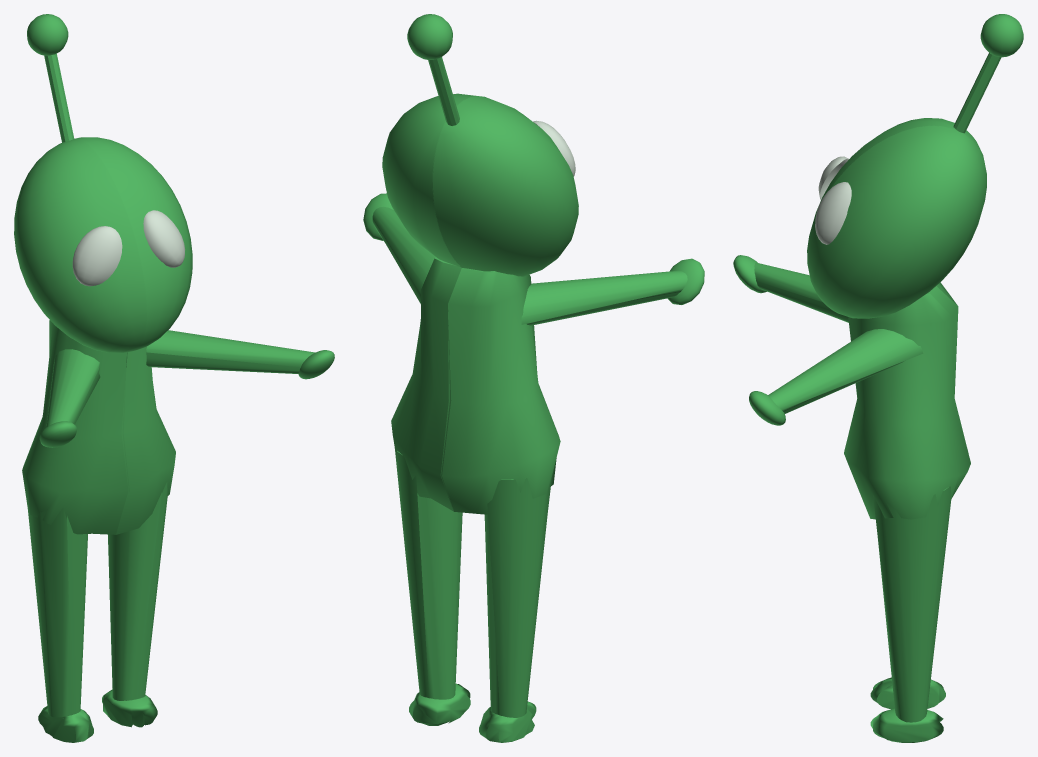
File: alien_model.fbx
The picture shows the model from 3 angles, left to right: view 1: azimuth 30°, elevation 25°; view 2: azimuth 150°, elevation 25°; view 3: azimuth 270°, elevation 25°; orthographic projection. The views are drawn at different scales.
Parts seen in each view (by area): view 1: pCylinder11; view 2: pCylinder11; view 3: pCylinder11.
Boxes of the visible parts, x1,y1,x2,y2 form: pCylinder11: [14, 14, 334, 742]; pCylinder11: [363, 14, 704, 742]; pCylinder11: [733, 14, 1023, 742].
Size of the model in its own units: 1.25 by 2.72 by 1.02.
